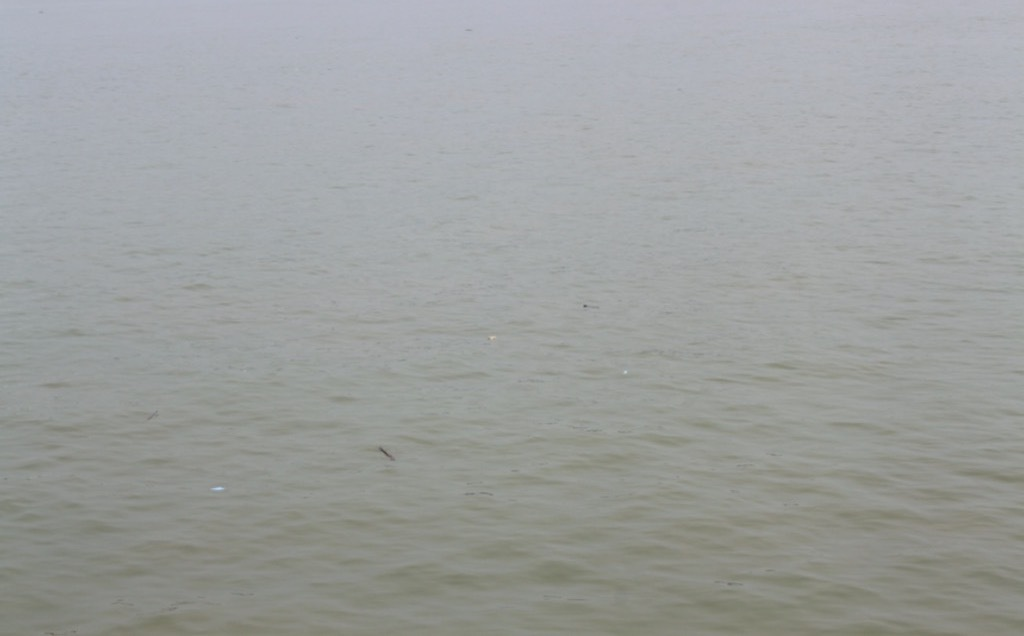organic: (370, 439, 407, 469), (140, 405, 163, 428), (578, 298, 601, 313)
plastic: (209, 484, 228, 492), (485, 333, 498, 342), (620, 366, 631, 376)
